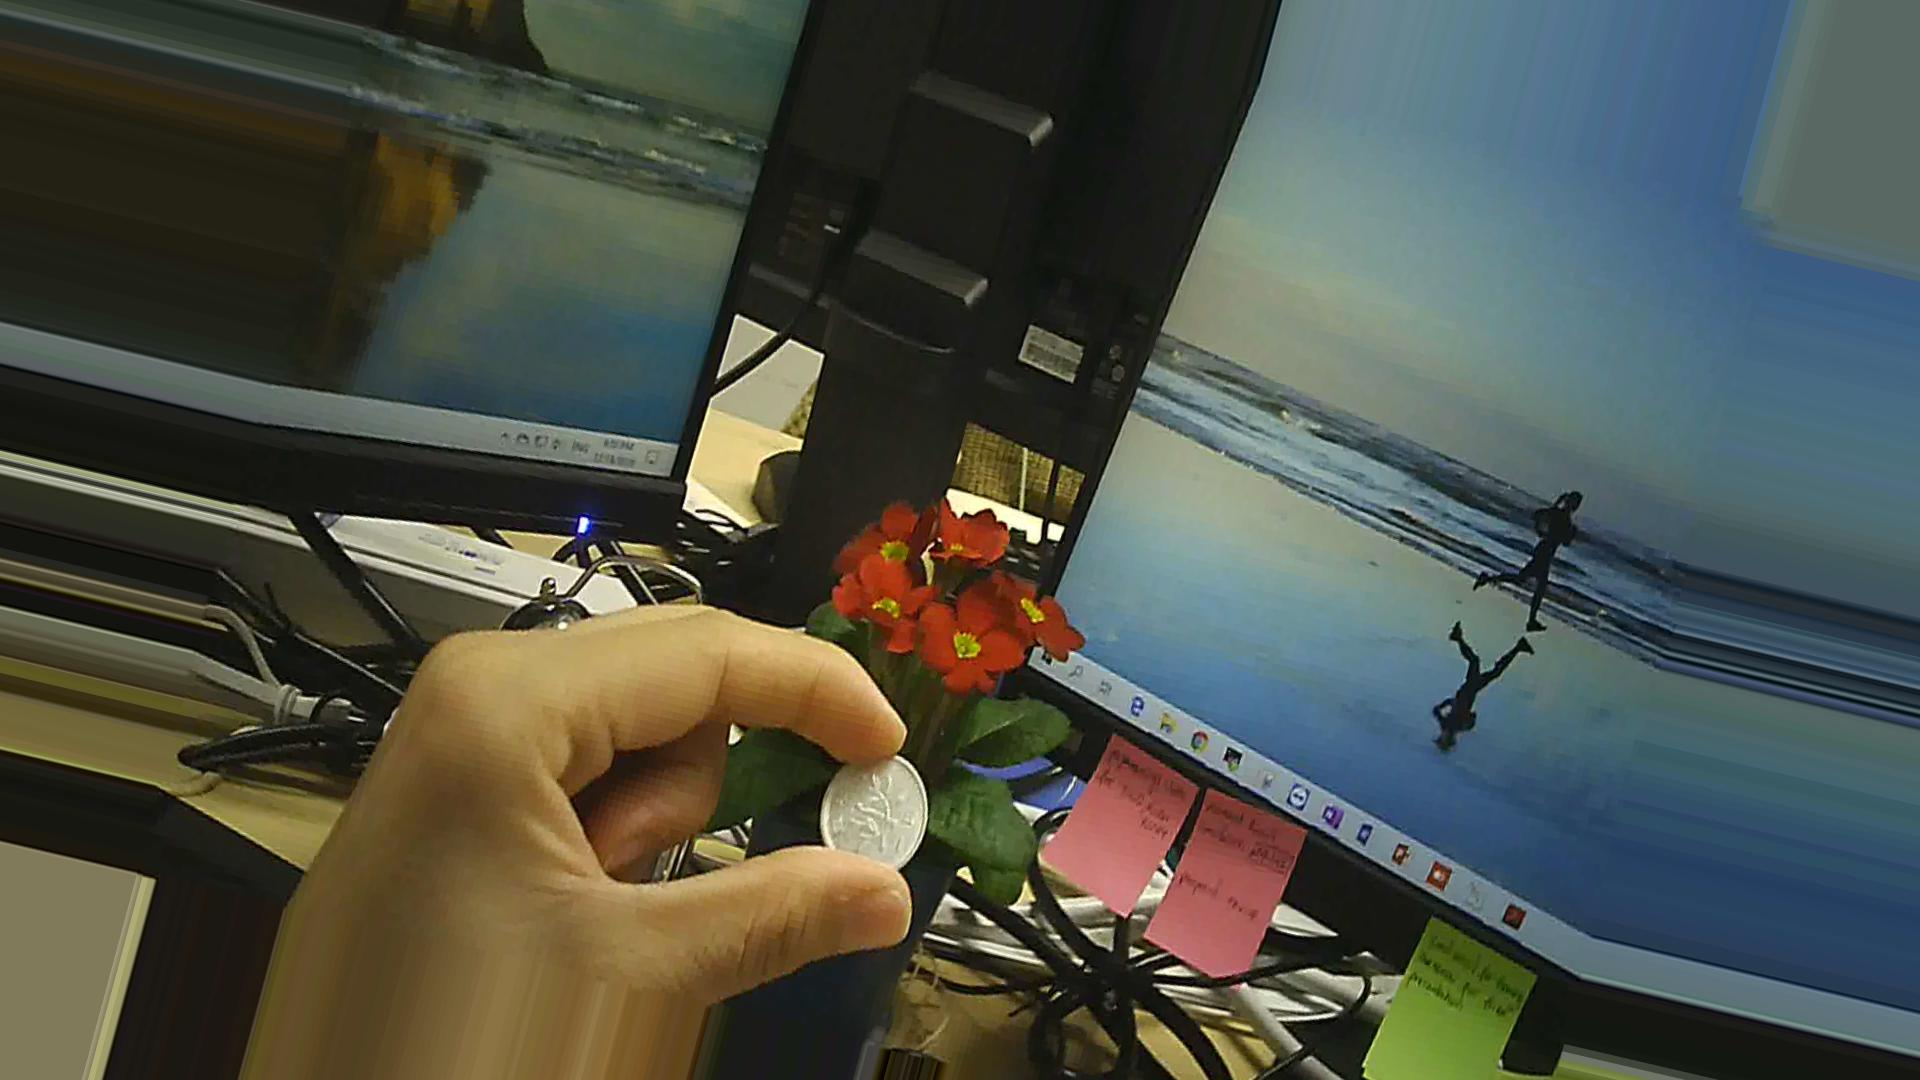1 Yen: (814, 746, 930, 878)
